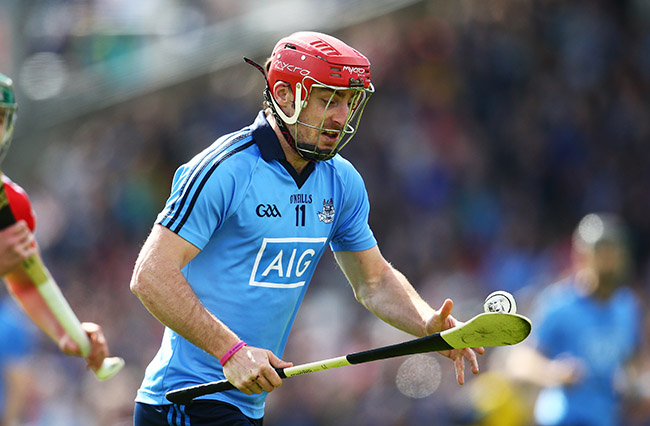hurley: (162, 311, 537, 406)
